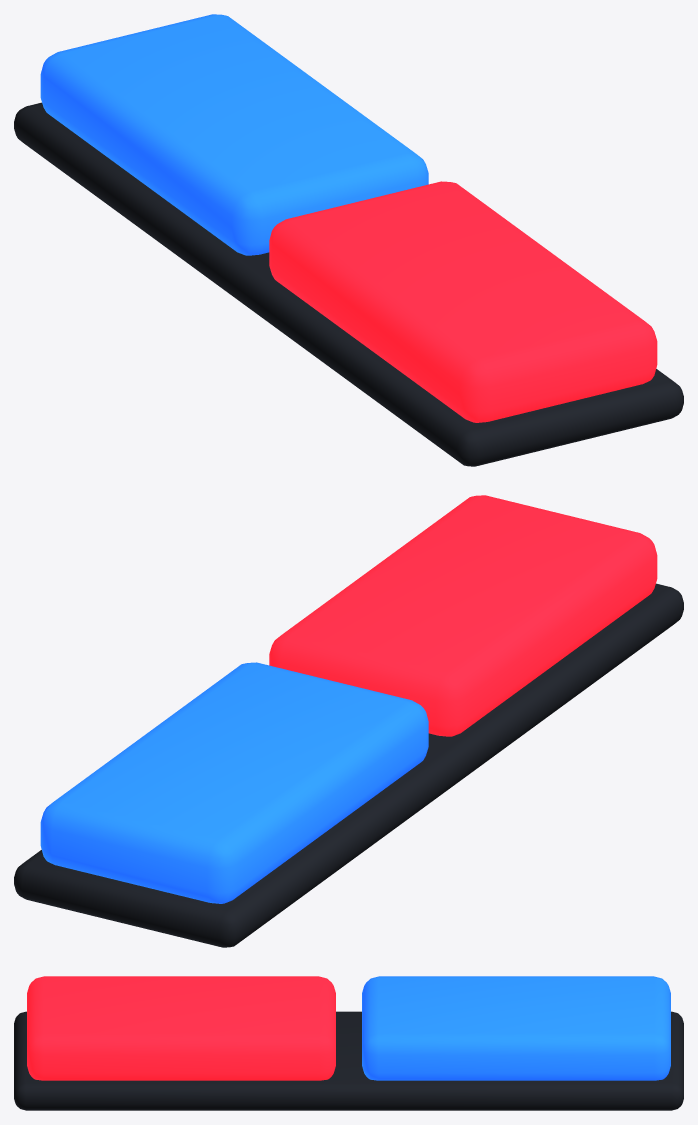
File: police_lightbar.glb
3 views of the same model, one above another, from view 1: azimuth 30°, elevation 25°; view 2: azimuth 150°, elevation 25°; view 3: azimuth 270°, elevation 25° (orthographic). The views are drawn at different scales.
Parts seen in each view (by area): view 1: Lightbar_Lens_Red, Lightbar_Lens_Blue, Lightbar_Base; view 2: Lightbar_Lens_Blue, Lightbar_Lens_Red, Lightbar_Base; view 3: Lightbar_Lens_Blue, Lightbar_Lens_Red, Lightbar_Base.
Boxes of the visible parts, <box> form: Lightbar_Lens_Red: <box>269,181,657,422</box>; Lightbar_Lens_Blue: <box>40,14,428,255</box>; Lightbar_Base: <box>14,102,683,466</box>; Lightbar_Lens_Blue: <box>40,662,428,903</box>; Lightbar_Lens_Red: <box>269,495,657,736</box>; Lightbar_Base: <box>14,583,683,947</box>; Lightbar_Lens_Blue: <box>362,976,670,1080</box>; Lightbar_Lens_Red: <box>27,976,335,1080</box>; Lightbar_Base: <box>14,1011,683,1110</box>.
Size of the model in its own units: 0.29 by 0.115 by 1.02.
